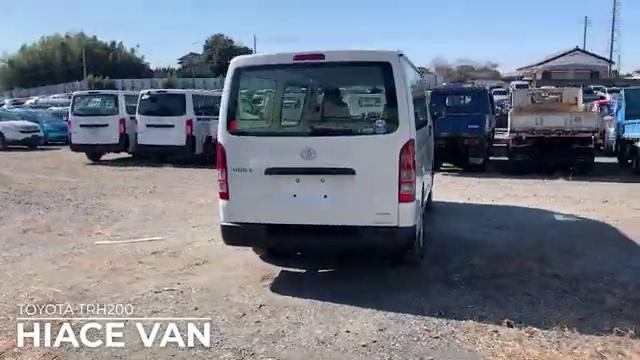van: (215, 53, 432, 248), (133, 88, 219, 163), (64, 86, 134, 159)
